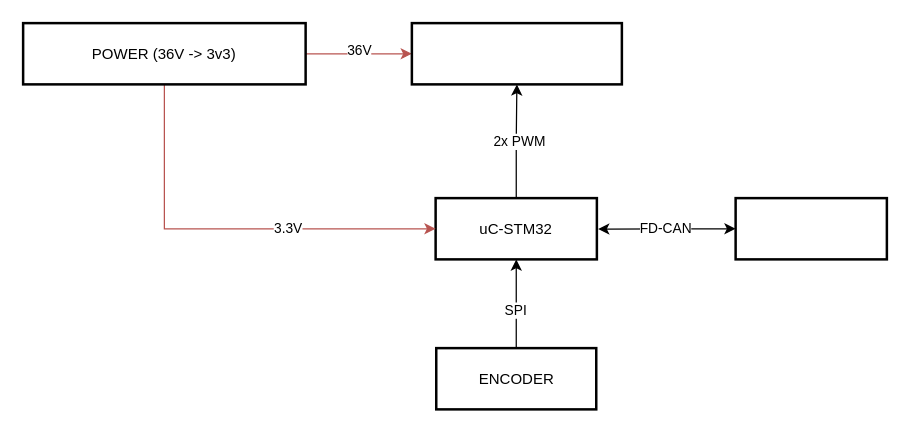
The diagram is 909 pixels wide and 431 high, and some of its shapes have lost their labels. Here are the shapes that lost their labels. From the top down, the centre of each, then its label:
At pixel 516 53: "MOTOR DRIVER".
At pixel 811 228: "CAN BUS".
